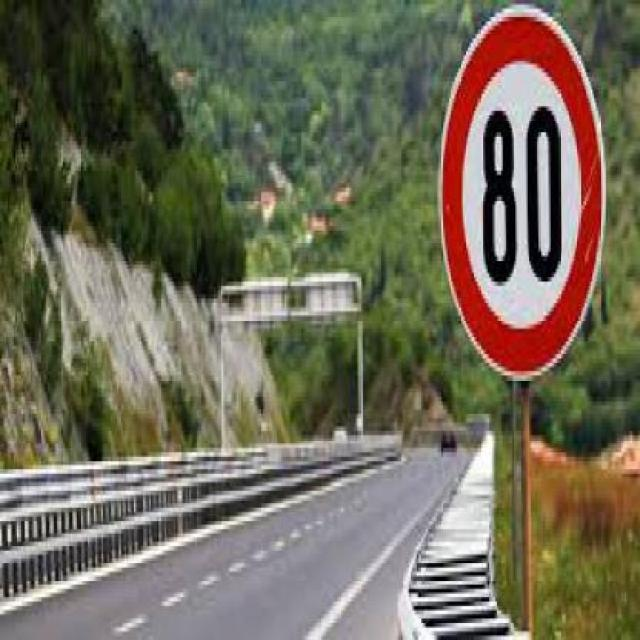forb_speed_over_80: (443, 13, 605, 393)
